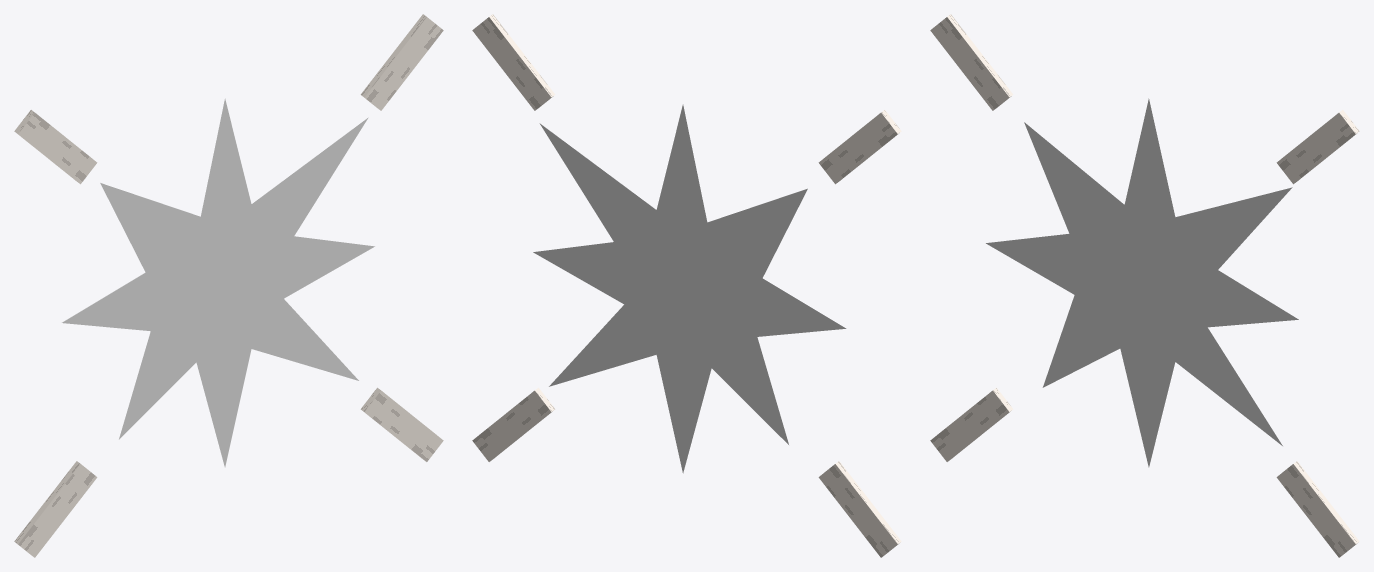
Rendered from Hit Star.fbx.
3 renders of one model, left to right at view 1: azimuth 30°, elevation 25°; view 2: azimuth 150°, elevation 25°; view 3: azimuth 330°, elevation 25°, orthographic.
Visible parts, largest first — view 1: Hit Star star, Hit Star core, Hit Star tick 0, Hit Star tick 2, Hit Star tick 1, Hit Star tick 3; view 2: Hit Star star, Hit Star tick 0, Hit Star tick 2, Hit Star tick 1, Hit Star tick 3; view 3: Hit Star star, Hit Star core, Hit Star tick 1, Hit Star tick 3, Hit Star tick 0, Hit Star tick 2.
Boxes of the visible parts, left/top/right/bottom form: Hit Star star: left=62, top=98, right=374, bottom=467; Hit Star core: left=161, top=220, right=283, bottom=347; Hit Star tick 0: left=360, top=14, right=443, bottom=110; Hit Star tick 2: left=14, top=461, right=97, bottom=557; Hit Star tick 1: left=14, top=110, right=97, bottom=184; Hit Star tick 3: left=360, top=387, right=443, bottom=461; Hit Star star: left=533, top=104, right=846, bottom=473; Hit Star tick 0: left=472, top=14, right=555, bottom=110; Hit Star tick 2: left=818, top=461, right=901, bottom=557; Hit Star tick 1: left=818, top=110, right=901, bottom=184; Hit Star tick 3: left=472, top=387, right=555, bottom=461; Hit Star star: left=986, top=98, right=1298, bottom=467; Hit Star core: left=1081, top=211, right=1202, bottom=354; Hit Star tick 1: left=930, top=14, right=1013, bottom=110; Hit Star tick 3: left=1276, top=461, right=1359, bottom=557; Hit Star tick 0: left=1276, top=110, right=1359, bottom=184; Hit Star tick 2: left=930, top=387, right=1013, bottom=461.
Bounding box in the file's own units: 0.6258 × 0.6258 × 0.015.
Materials: 3 (1 with a texture image).
